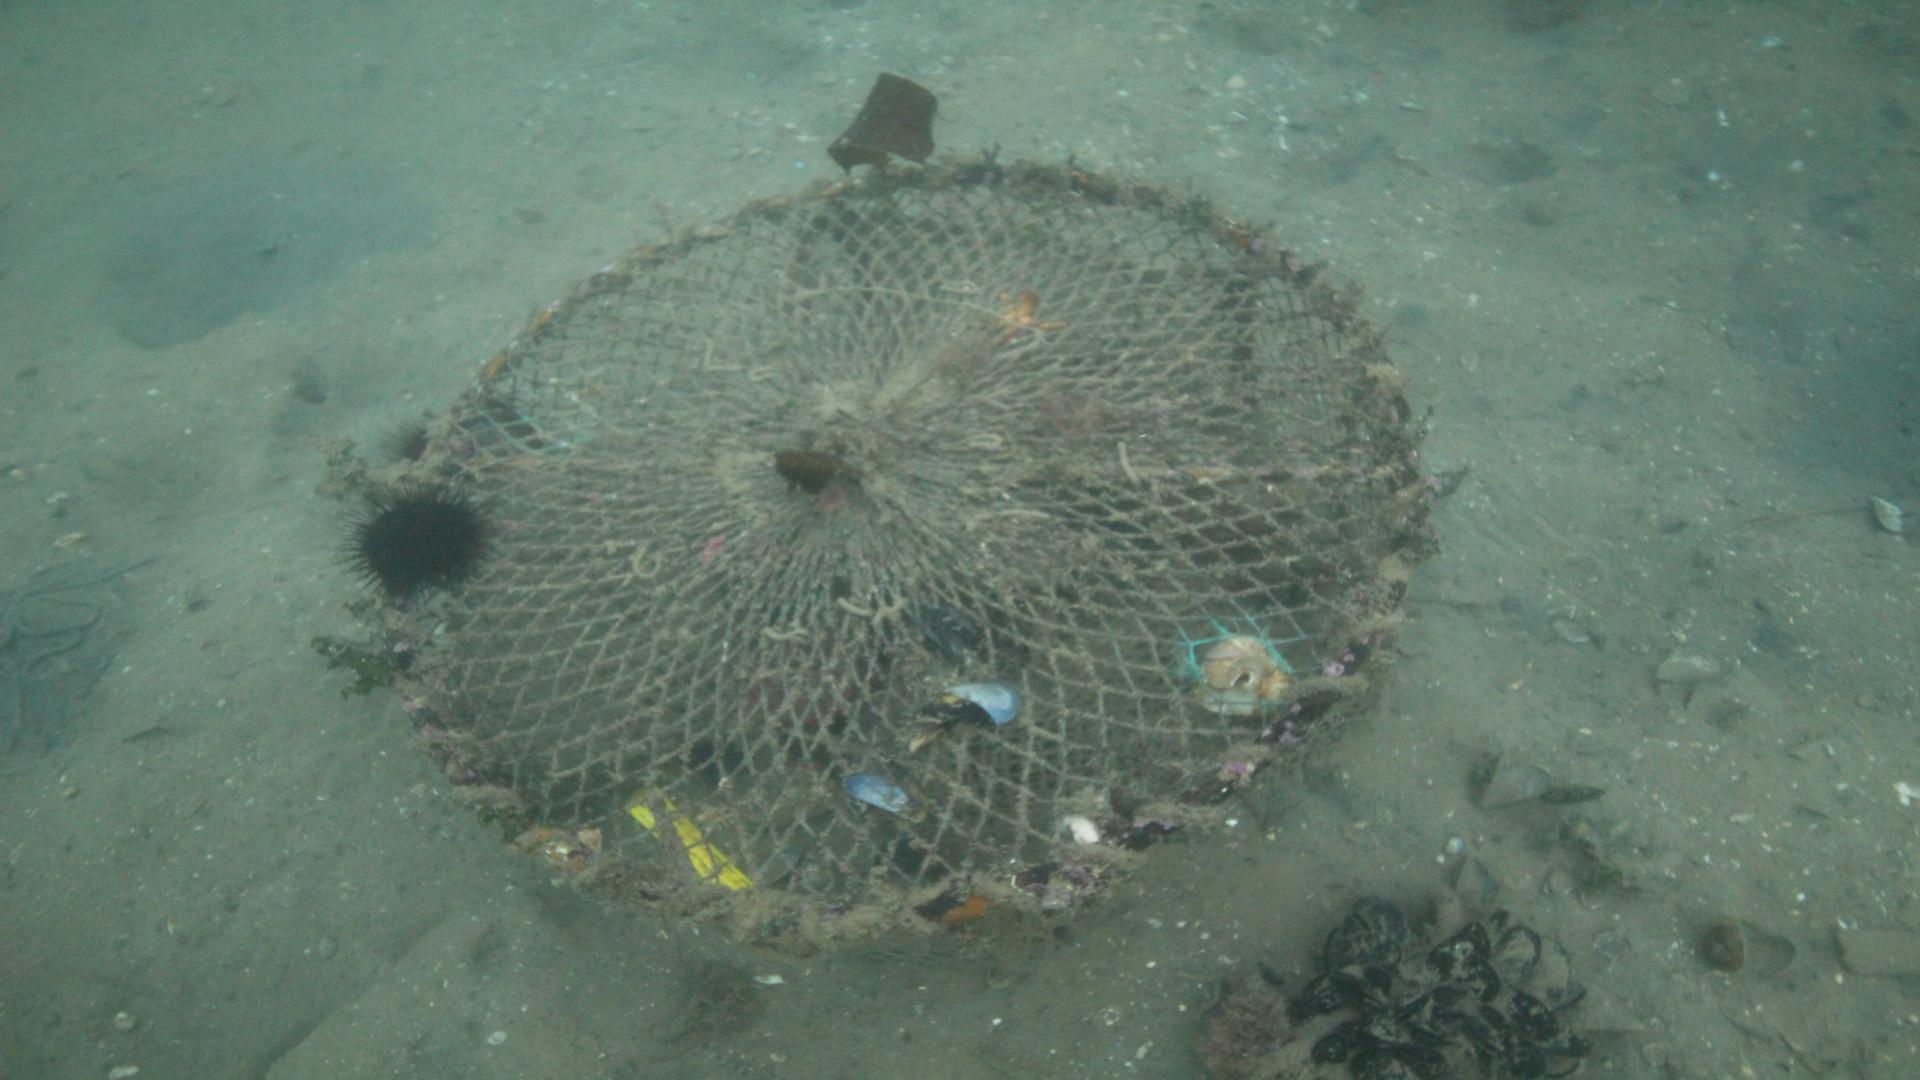circular fish trap: (415, 157, 1427, 957)
